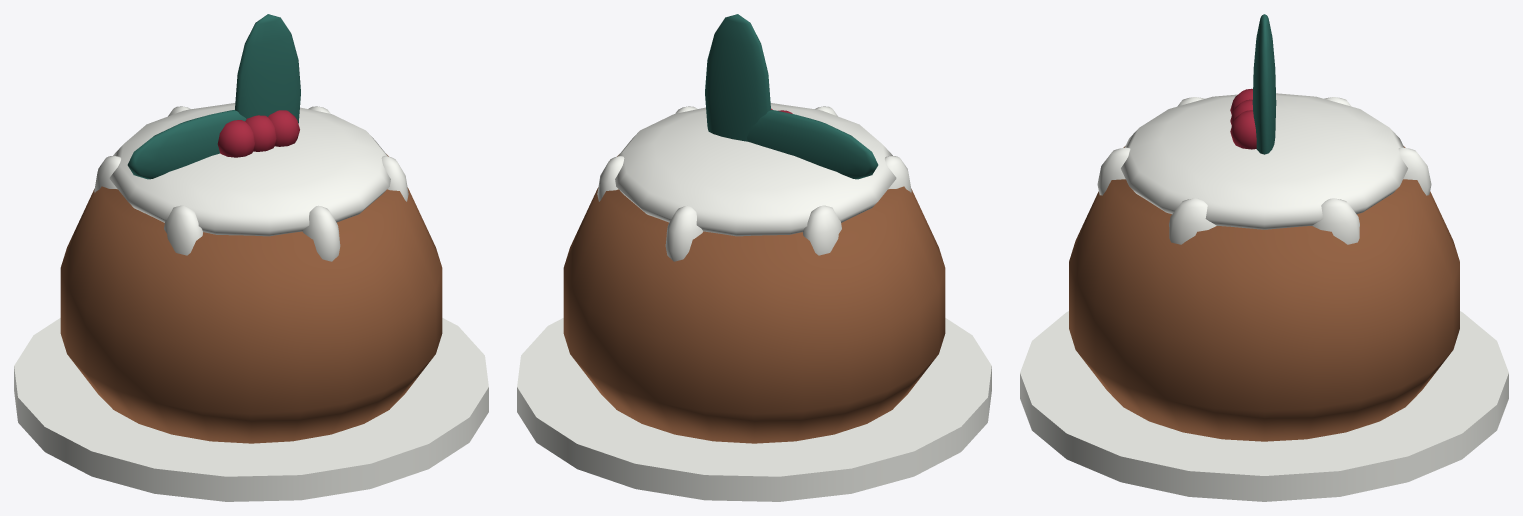
File: christmas-storybook-christmas-pudding-2ffef51b__18766.glb
3 views of the same model, side by side, from view 1: azimuth 30°, elevation 25°; view 2: azimuth 150°, elevation 25°; view 3: azimuth 270°, elevation 25° (orthographic). The views are drawn at different scales.
Parts seen in each view (by area): view 1: oak, cream, pine, berry; view 2: oak, cream, pine; view 3: oak, cream, pine, berry.
Part boxes in pixels (x1=…): oak: x1=60, y1=154, x2=442, y2=443; cream: x1=14, y1=103, x2=488, y2=501; pine: x1=127, y1=14, x2=300, y2=179; berry: x1=217, y1=110, x2=299, y2=157; oak: x1=563, y1=154, x2=945, y2=443; cream: x1=517, y1=103, x2=991, y2=501; pine: x1=705, y1=14, x2=878, y2=179; oak: x1=1069, y1=146, x2=1459, y2=441; cream: x1=1020, y1=93, x2=1508, y2=501; pine: x1=1252, y1=14, x2=1276, y2=154; berry: x1=1230, y1=88, x2=1256, y2=149.
Bounding box in the file's own units: 0.6 × 0.532 × 0.6.
